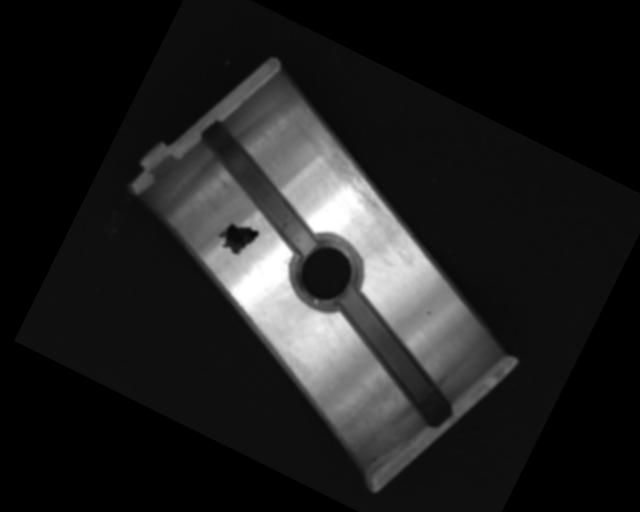blot: (212, 213, 262, 260)
bruise: (423, 306, 434, 316)
gap: (310, 286, 480, 429), (174, 118, 344, 256)
hole: (279, 226, 372, 321)
scratch: (274, 104, 425, 225)
